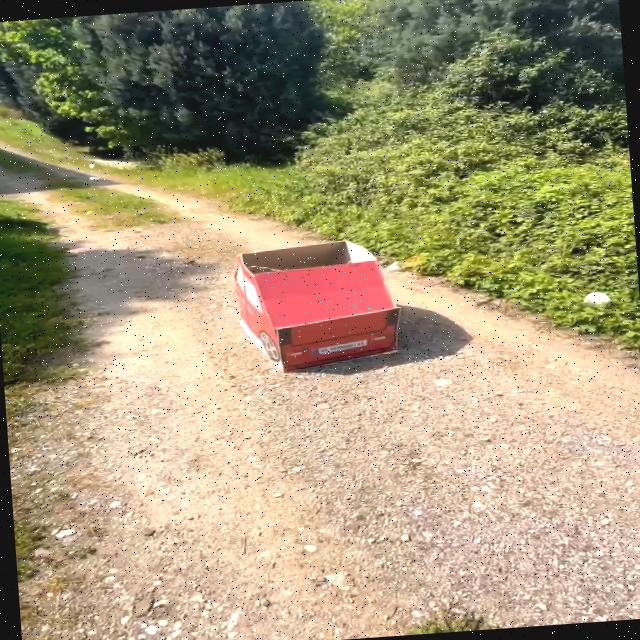red_car: (199, 225, 468, 389)
